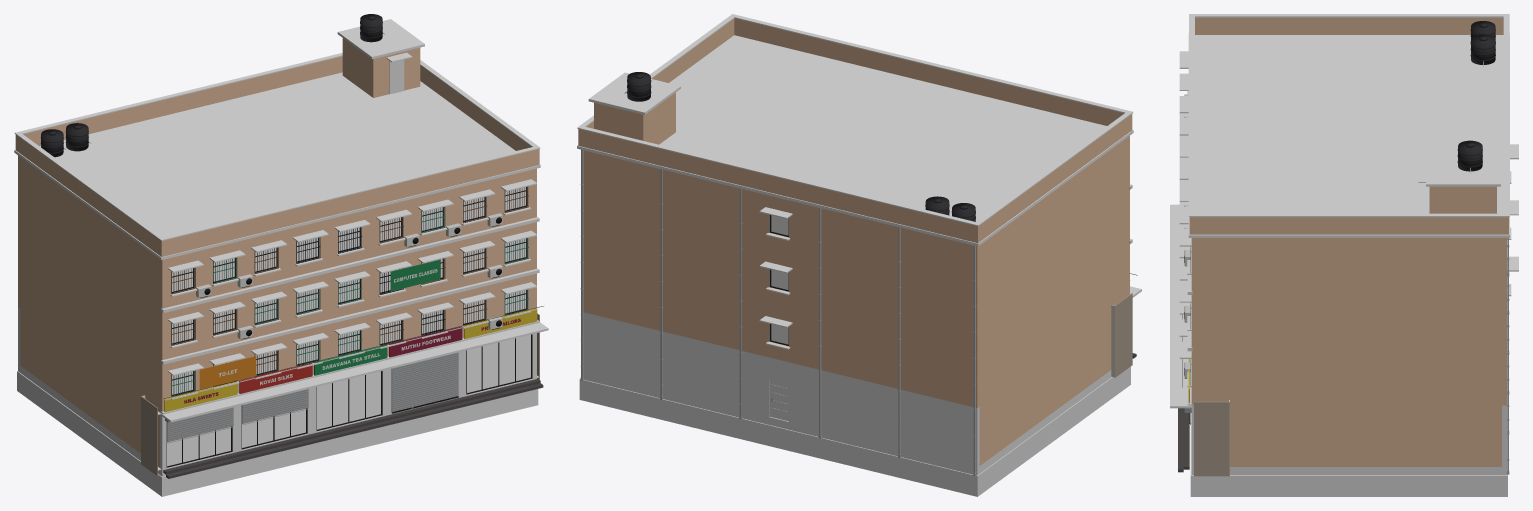
The model's file is commercial_24x16_4.glb.
The picture shows the model from 3 angles, left to right: view 1: azimuth 30°, elevation 25°; view 2: azimuth 150°, elevation 25°; view 3: azimuth 270°, elevation 25°; orthographic projection. The views are drawn at different scales.
Parts seen in each view (by area): view 1: commercial_24x16_4; view 2: commercial_24x16_4; view 3: commercial_24x16_4.
Boxes of the visible parts, bbox=[...] form: commercial_24x16_4: bbox=[14, 14, 548, 496]; commercial_24x16_4: bbox=[577, 14, 1141, 496]; commercial_24x16_4: bbox=[1170, 14, 1518, 496].
Bounding box in the file's own units: 24.5 × 18.6 × 17.71.
